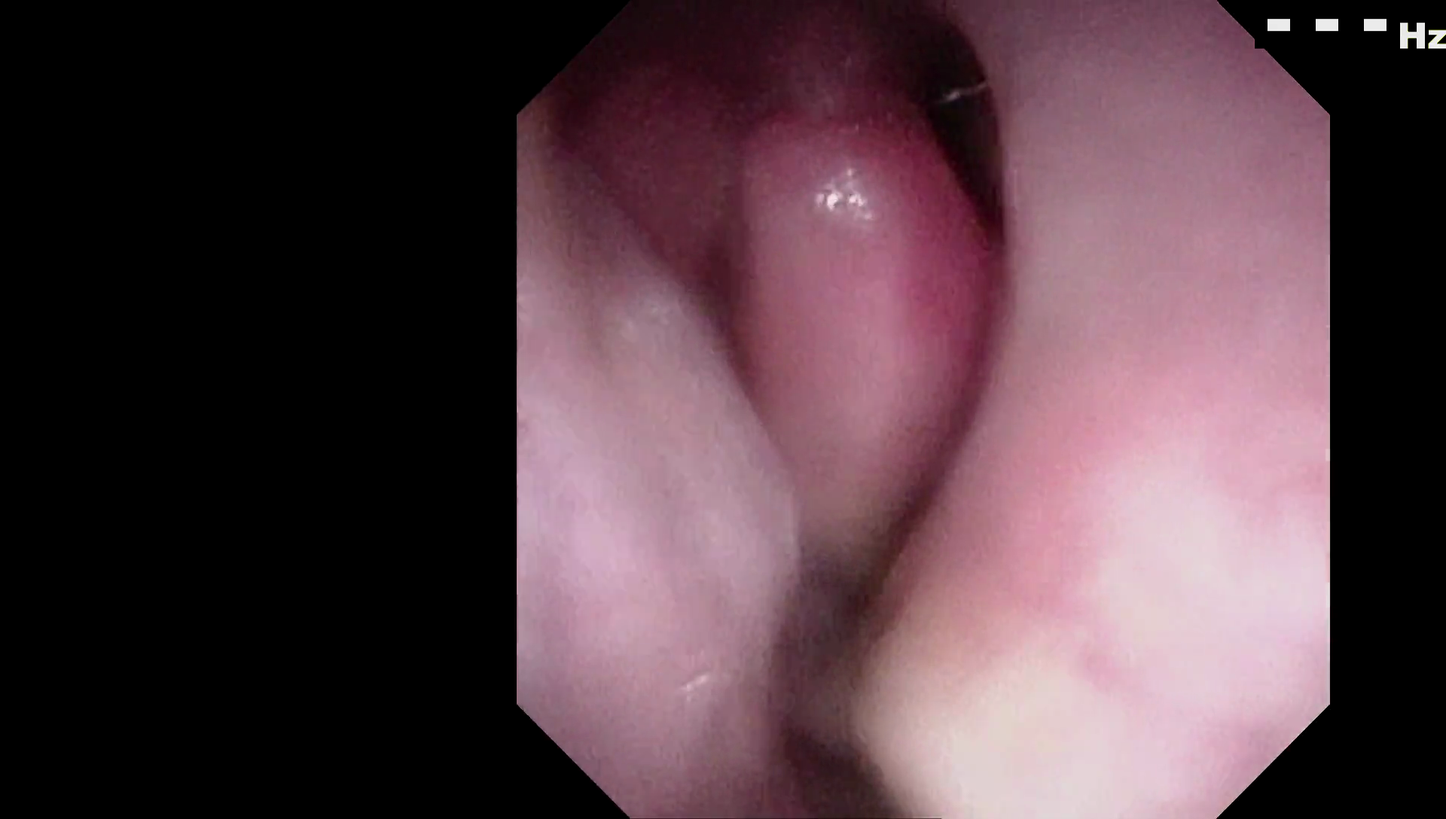close_wall: (950, 205, 1309, 819)
next: (737, 494, 959, 819), (870, 11, 1016, 278)
